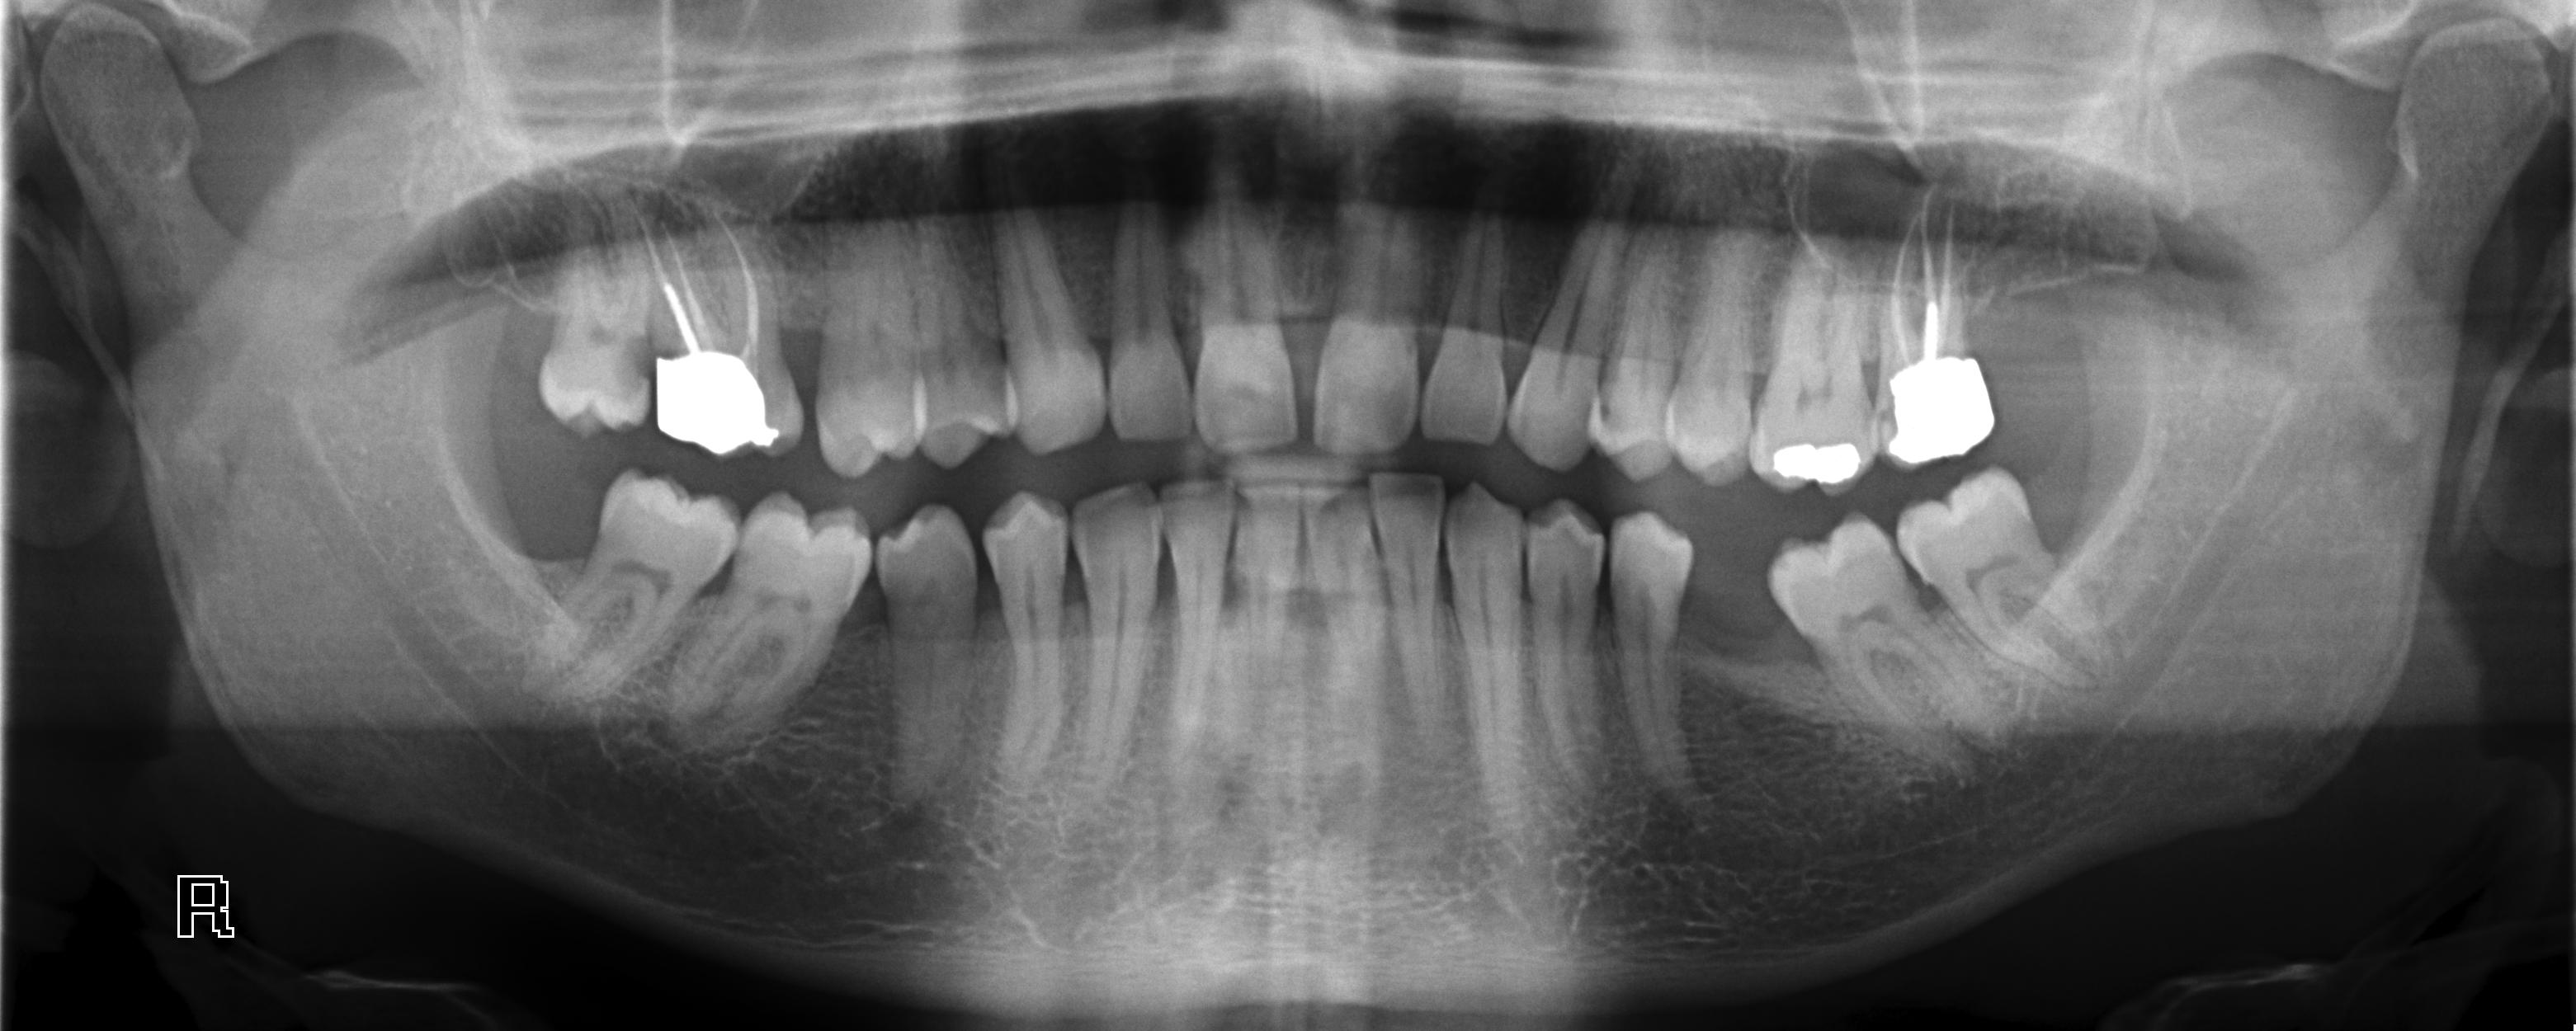Çürük: (1878, 341, 2006, 471), (646, 340, 784, 460), (1763, 428, 1870, 489)
